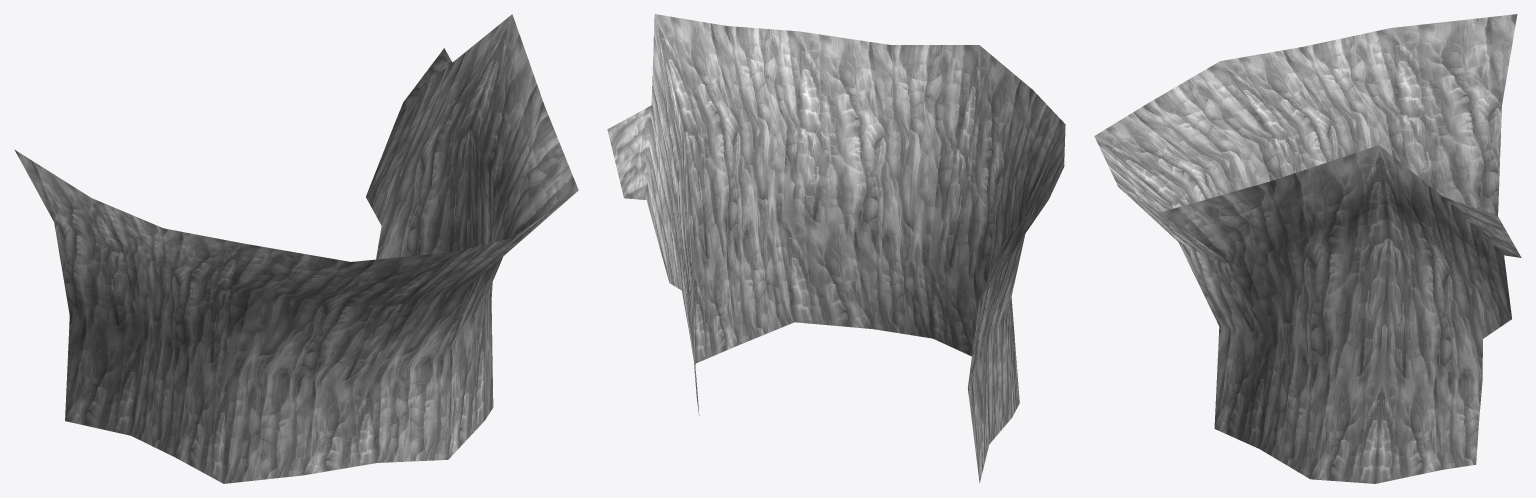
The model's file is SWORDLIGHT20_PS-AREA03_57.fbx.
3 views of the same model, side by side, from view 1: azimuth 30°, elevation 25°; view 2: azimuth 150°, elevation 25°; view 3: azimuth 270°, elevation 25° (orthographic). The views are drawn at different scales.
Visible parts, largest first — view 1: SWORDLIGHT20_PS-AREA03_57; view 2: SWORDLIGHT20_PS-AREA03_57; view 3: SWORDLIGHT20_PS-AREA03_57.
Part boxes in pixels (left/top/right/bottom): SWORDLIGHT20_PS-AREA03_57: left=14, top=14, right=578, bottom=483; SWORDLIGHT20_PS-AREA03_57: left=607, top=14, right=1065, bottom=482; SWORDLIGHT20_PS-AREA03_57: left=1094, top=14, right=1521, bottom=483.
Bounding box in the file's own units: 200040 × 160792 × 170009.
1 material, 1 textured.
